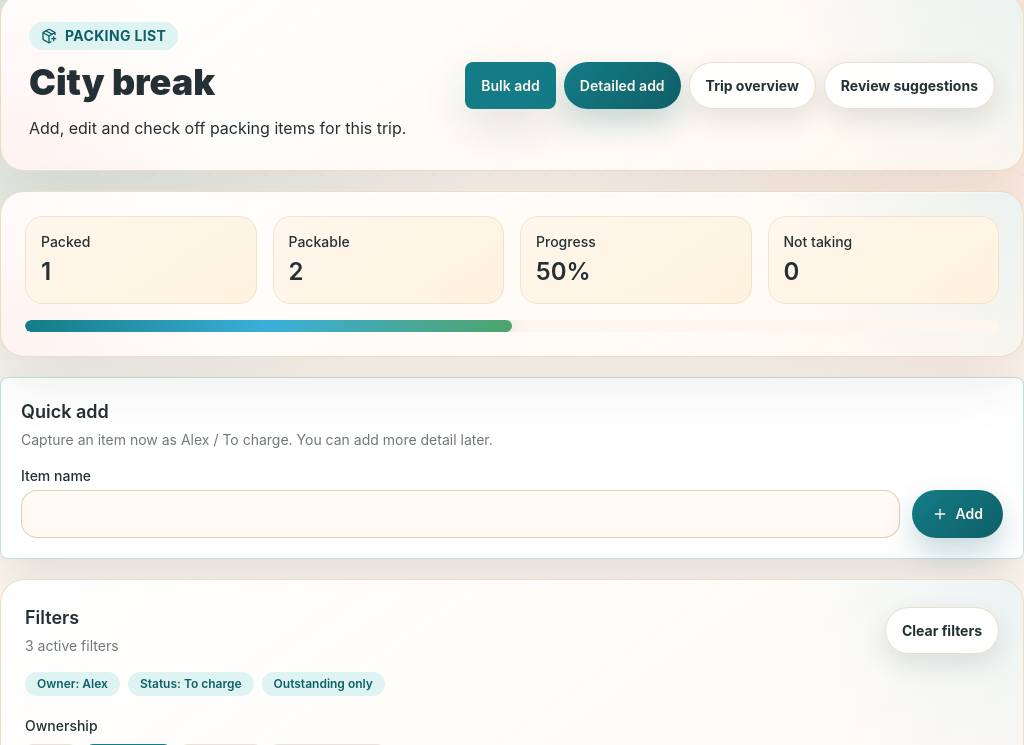
Test case: PackingListScreen › reads dashboard filters, shows them, and clears them
expect the heading "Packed cable" is not shown: met
Click the button "Clear filters" at coordinates (942, 630), box [885,606,999,654]
(page scrolled)
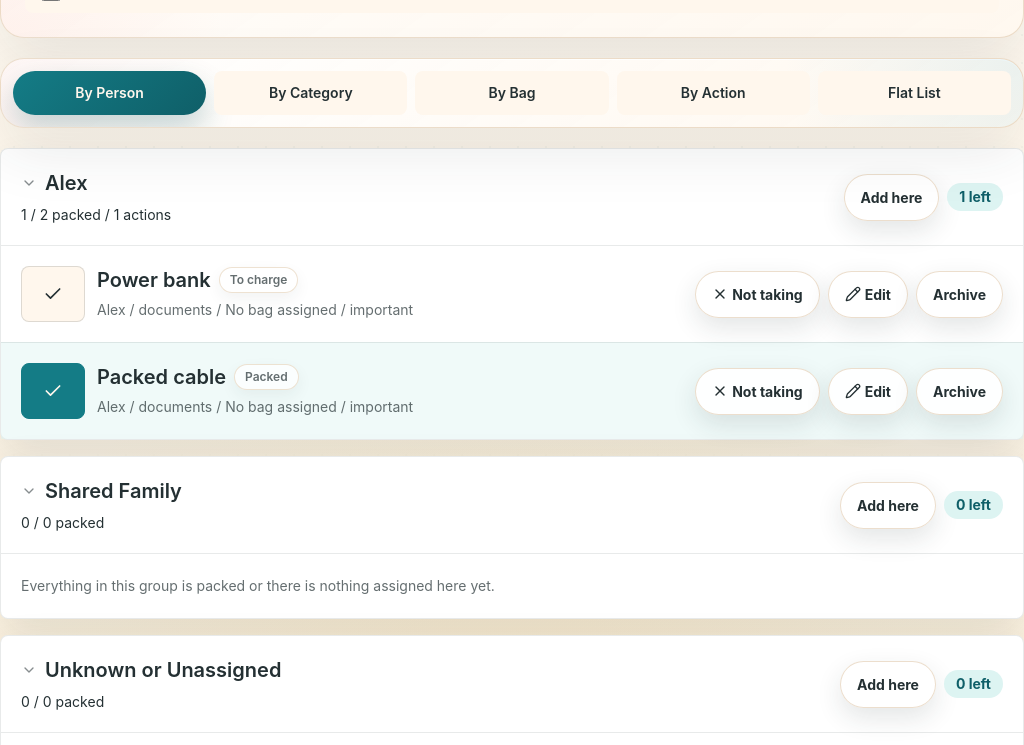
expect the heading "Packed cable" is shown: met, box [97,363,226,391]
